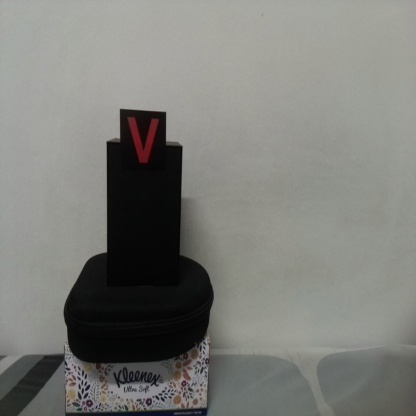id_11: (120, 110, 167, 178)
